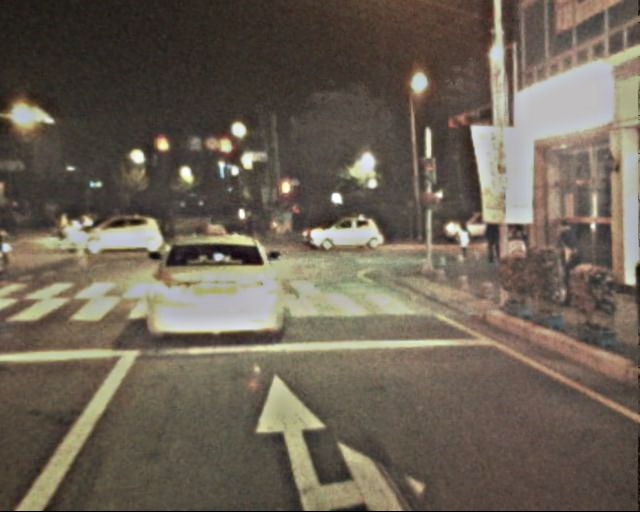person: (554, 216, 582, 299), (482, 210, 505, 266), (454, 218, 475, 267), (155, 210, 177, 242), (11, 205, 32, 234), (58, 202, 74, 240), (80, 205, 94, 240), (240, 209, 253, 241), (192, 209, 205, 240)
